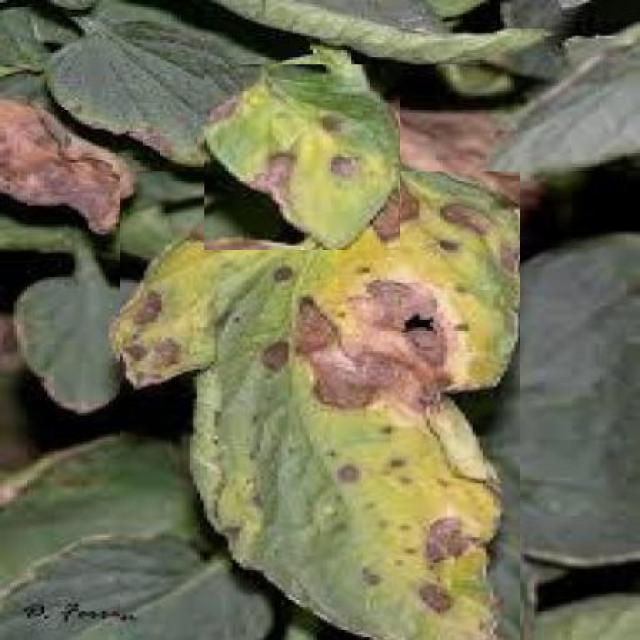Early Blight: (120, 172, 520, 640), (204, 65, 400, 251)
